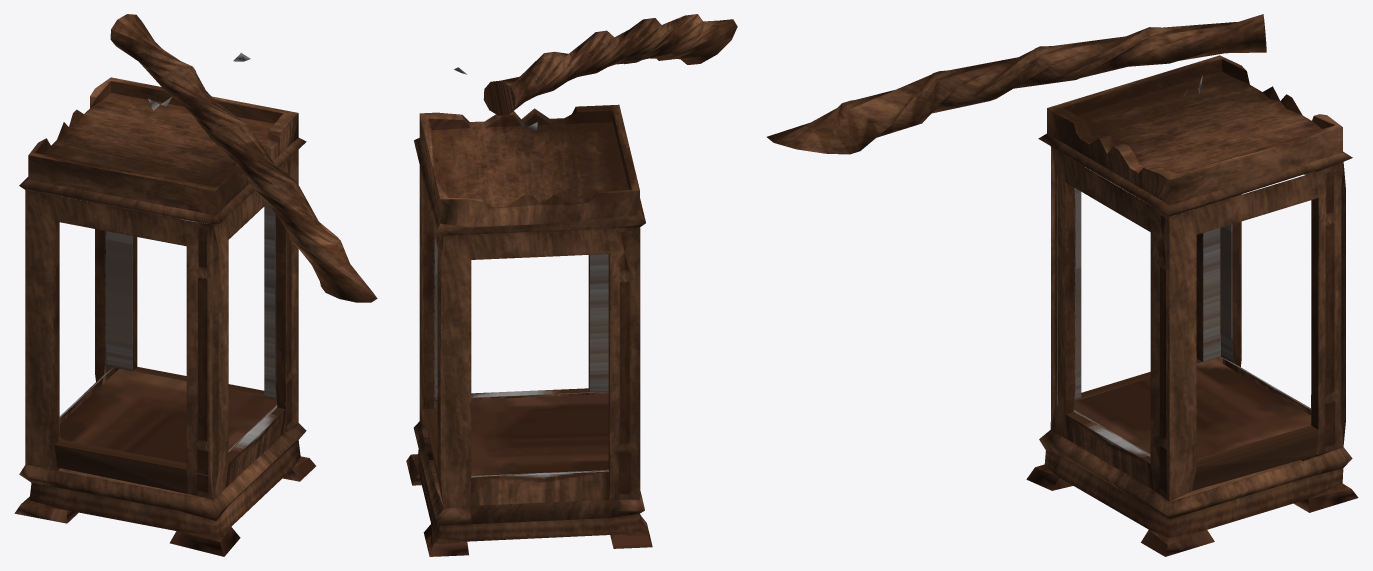
The model's file is lamp.dae.
3 views of the same model, side by side, from view 1: azimuth 30°, elevation 25°; view 2: azimuth 150°, elevation 25°; view 3: azimuth 270°, elevation 25° (orthographic). The views are drawn at different scales.
Visible parts, largest first — view 1: 02_Fbx_Lamplight-POLY_REDUCED 1; view 2: 02_Fbx_Lamplight-POLY_REDUCED 1; view 3: 02_Fbx_Lamplight-POLY_REDUCED 1.
Boxes of the visible parts, x1=… form: 02_Fbx_Lamplight-POLY_REDUCED 1: x1=14, y1=14, x2=377, y2=556; 02_Fbx_Lamplight-POLY_REDUCED 1: x1=406, y1=14, x2=737, y2=556; 02_Fbx_Lamplight-POLY_REDUCED 1: x1=767, y1=14, x2=1358, y2=556.
Bounding box in the file's own units: 8.27 × 14.85 × 13.08.
1 material, 1 textured.
